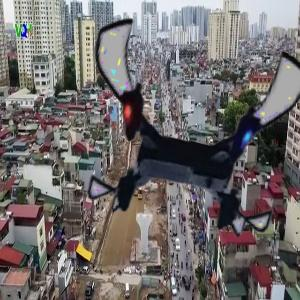drone: (77, 16, 297, 236)
